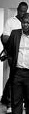boots: (6, 107, 12, 114), (0, 111, 11, 114)
hard-hat: (18, 23, 29, 40)
ppe-suit: (0, 17, 14, 114)
